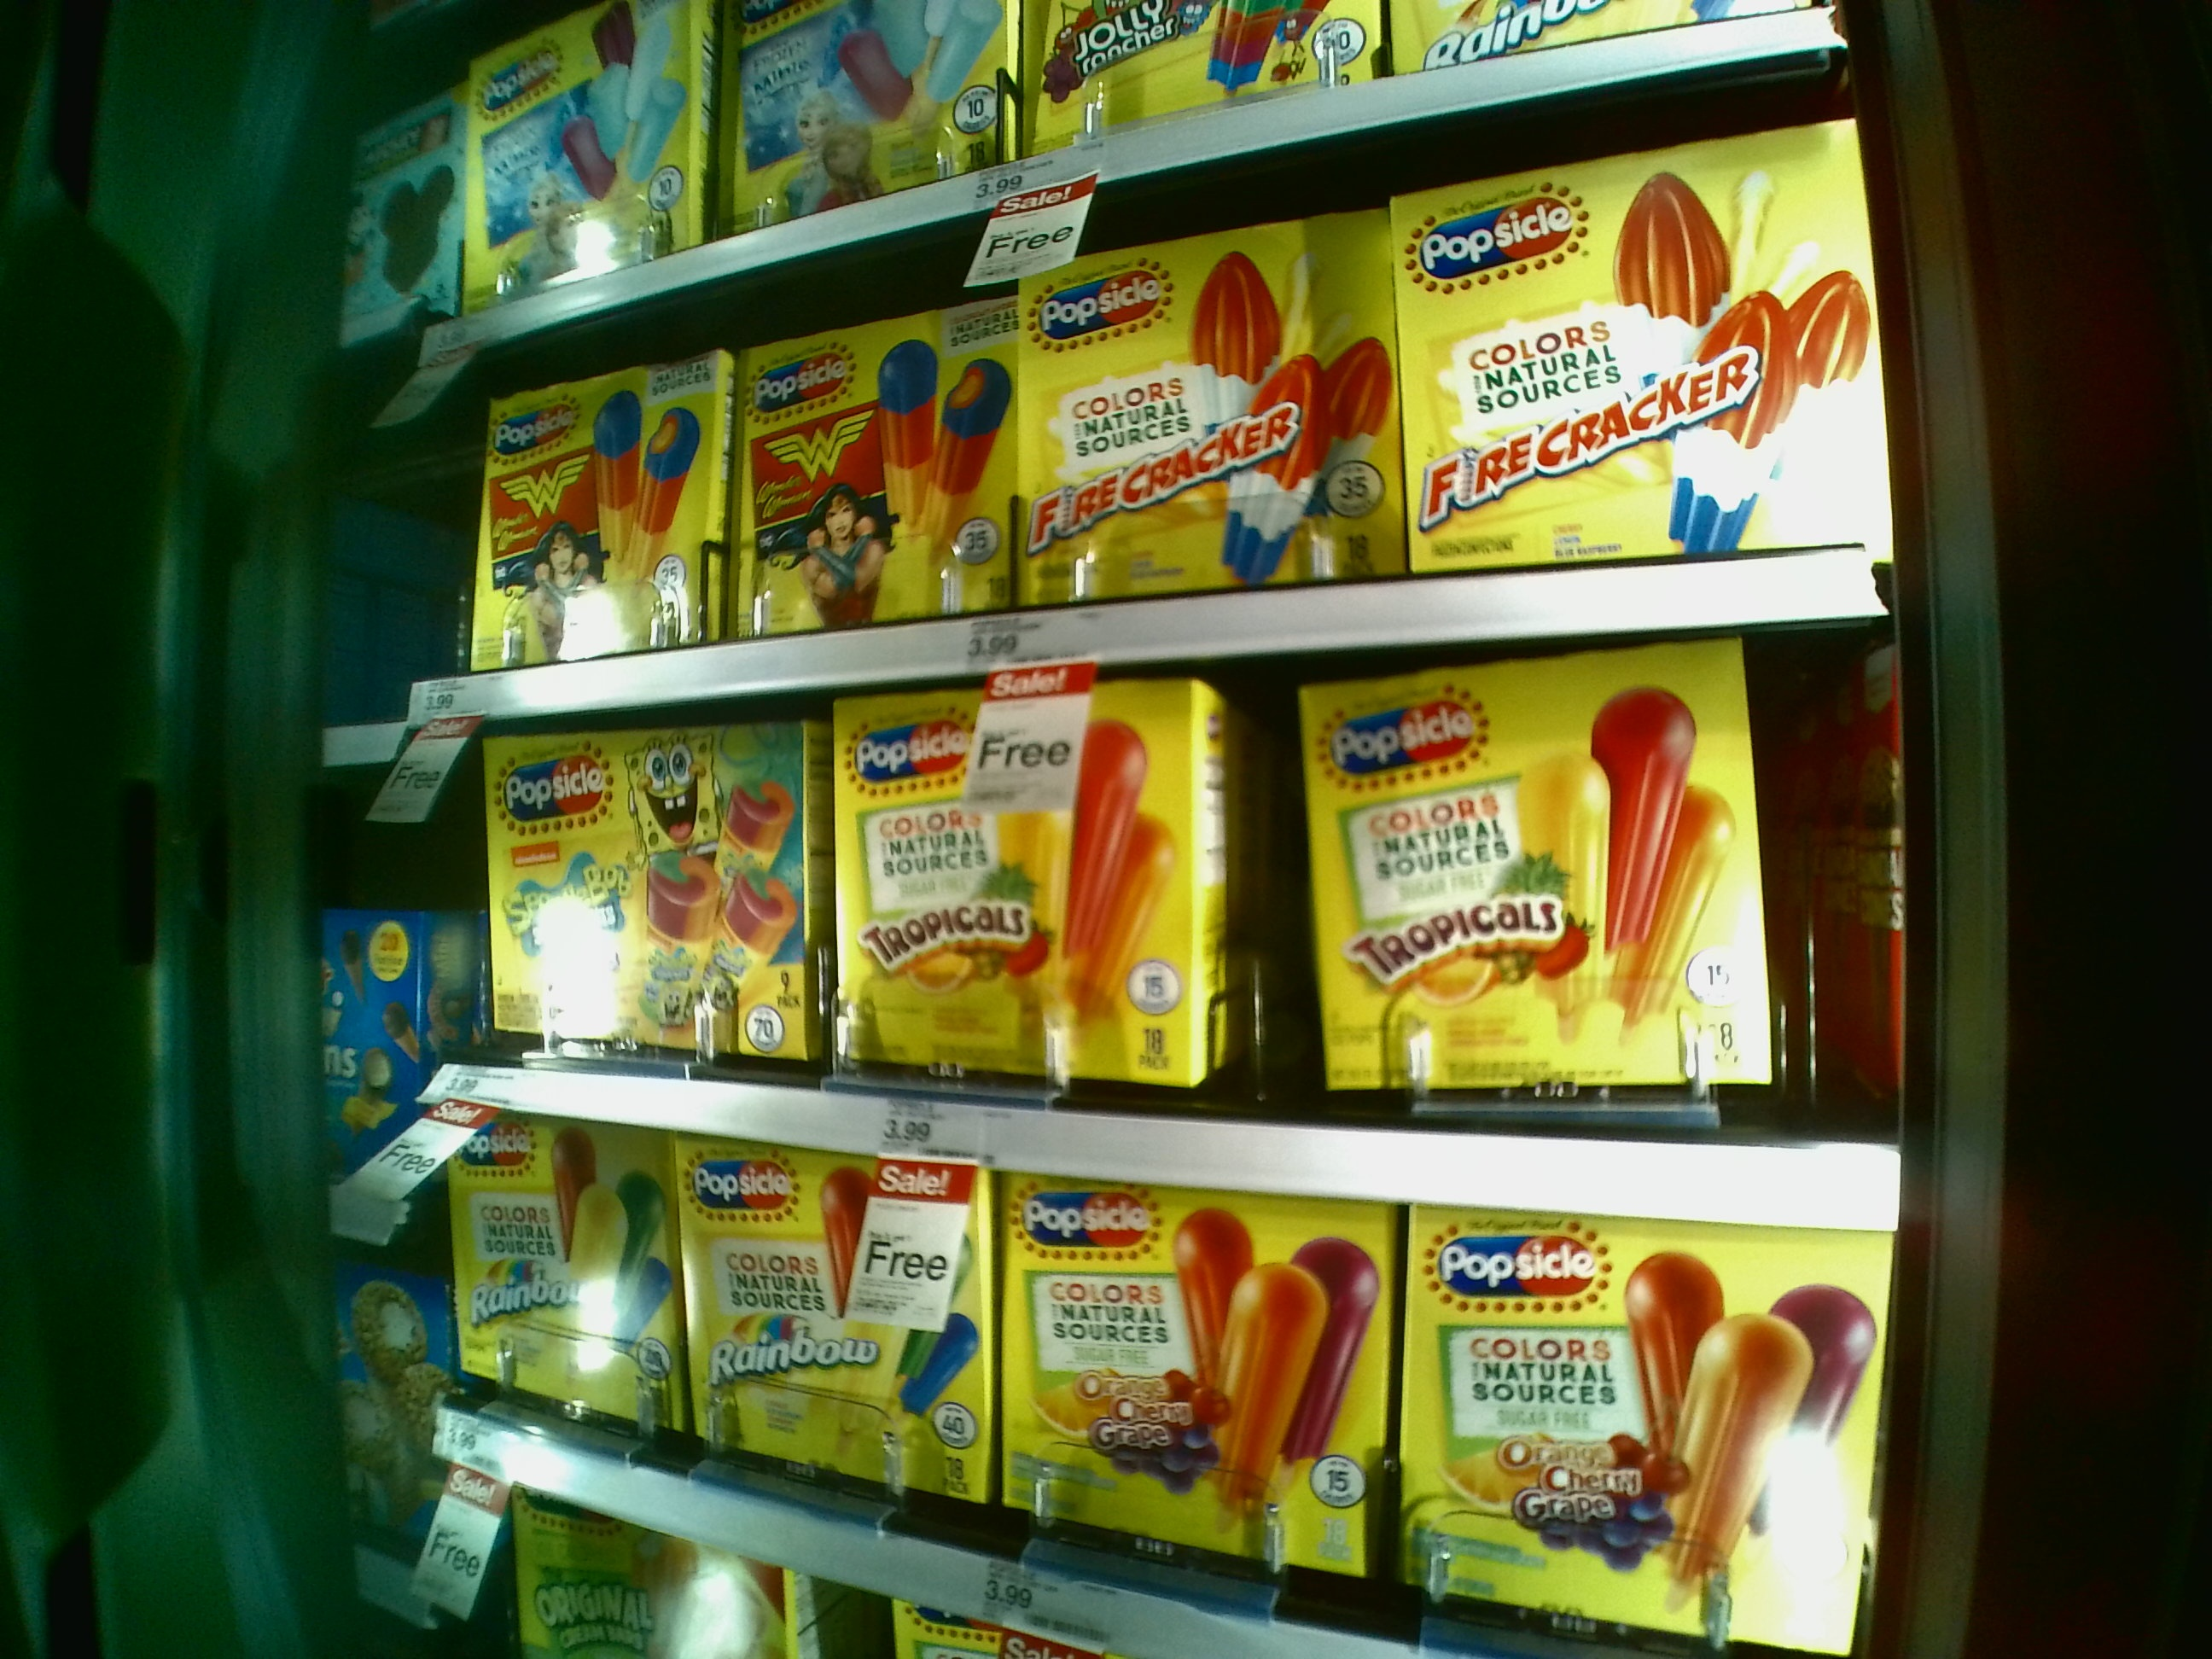shelf: (455, 1141, 1898, 1659), (437, 669, 1897, 1168), (449, 176, 1881, 664)
